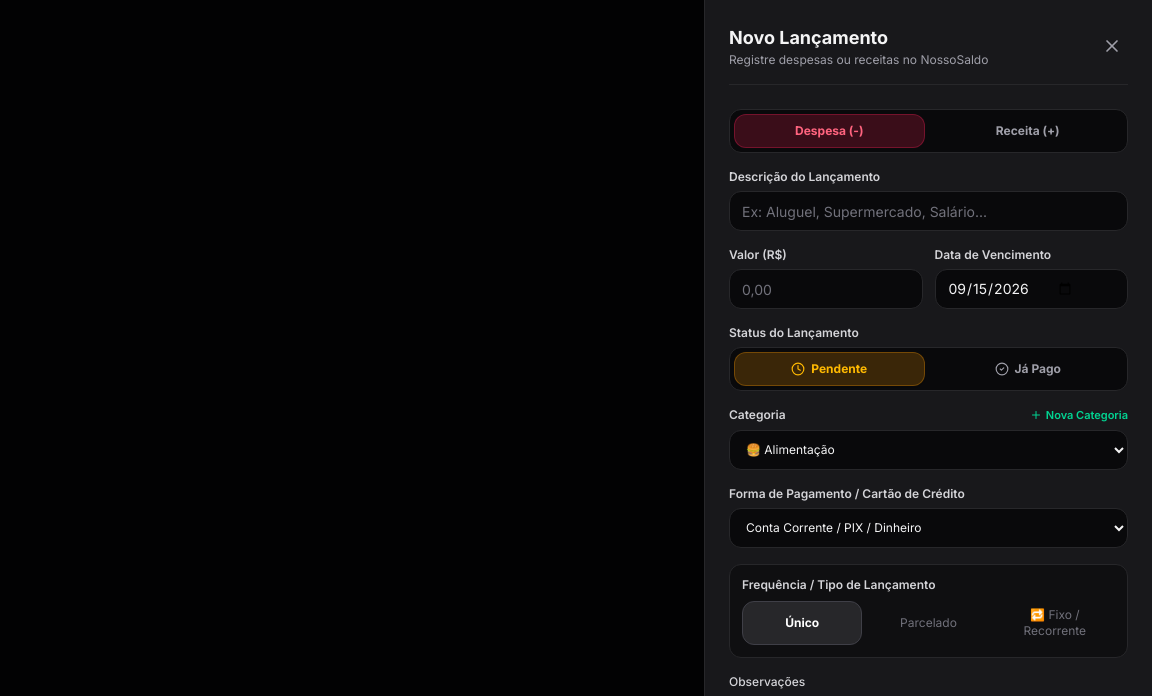
Test case: Lançamento Já Pago e Vencimento Automático de Cartão de Crédito › Formulário de Lançamento (ExpenseDrawerForm) › sugere a próxima fatura quando a data atual passou do fechamento
This screenshot has width=1152, height=696.
Select "Nubank Roxinho (Final e64a) • Venc. dia 17" in the dropdown labelled "Forma de Pagamento / Cartão de Crédito": (928, 528) left=729, top=508, right=1128, bottom=548
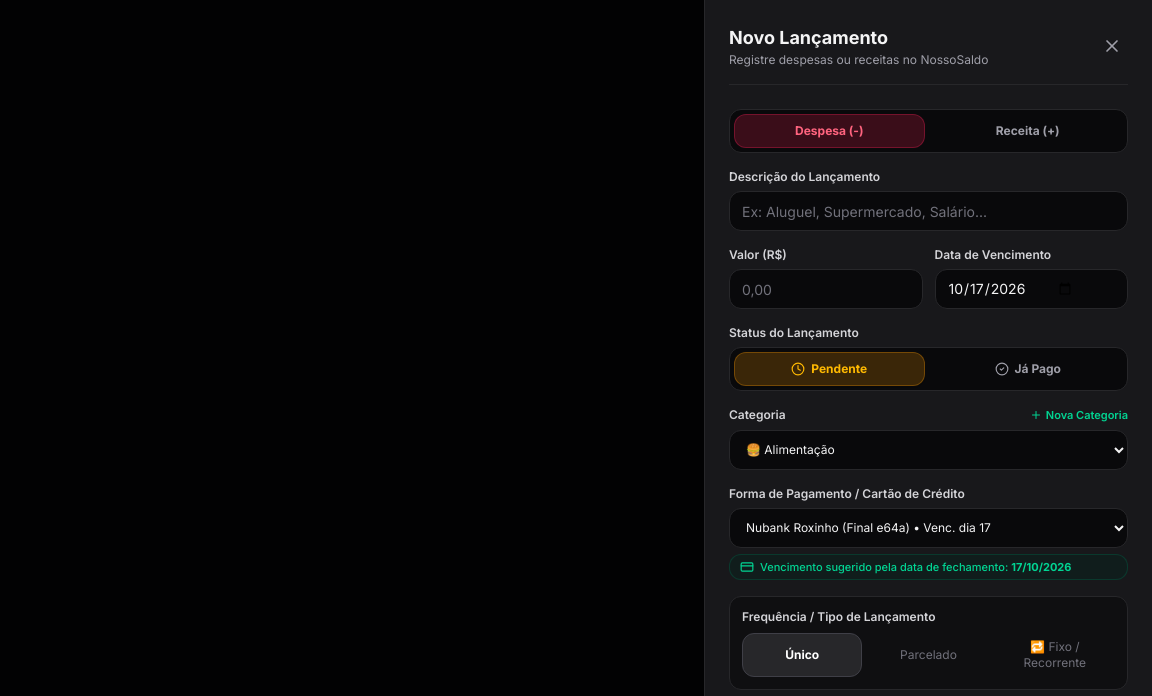
expect the date field labelled "Data de Vencimento" holds "2026-10-17": met, box left=934, top=269, right=1128, bottom=309
expect the text "Vencimento sugerido pela data de fechamento: 17/10/2026" is shown: met, box left=760, top=558, right=1071, bottom=575
